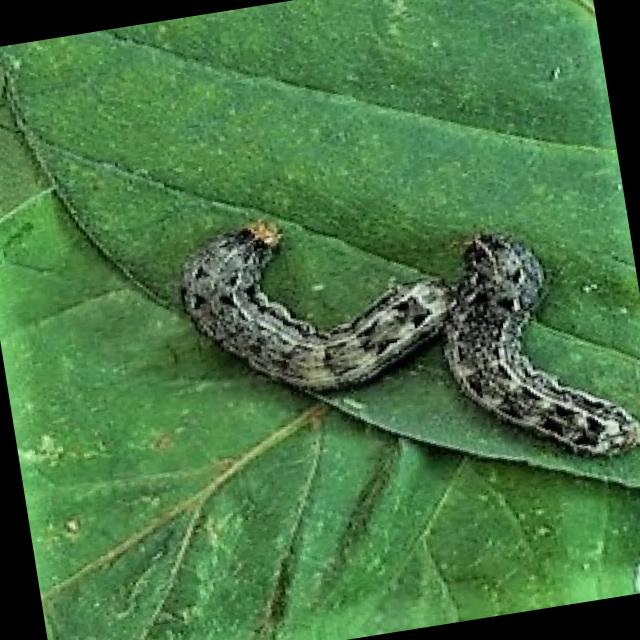Armyworm: (155, 184, 487, 422), (411, 189, 640, 513)
